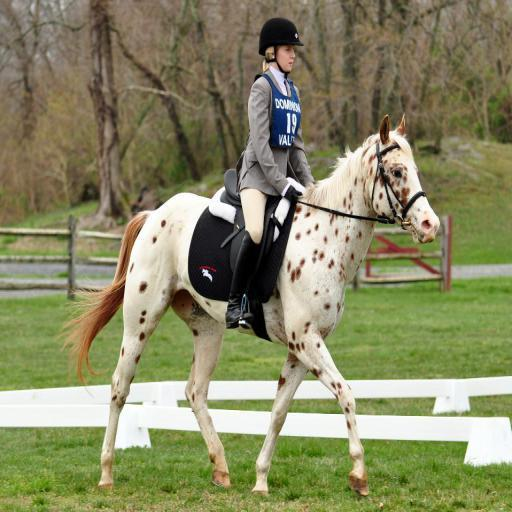horse: (54, 114, 438, 500)
